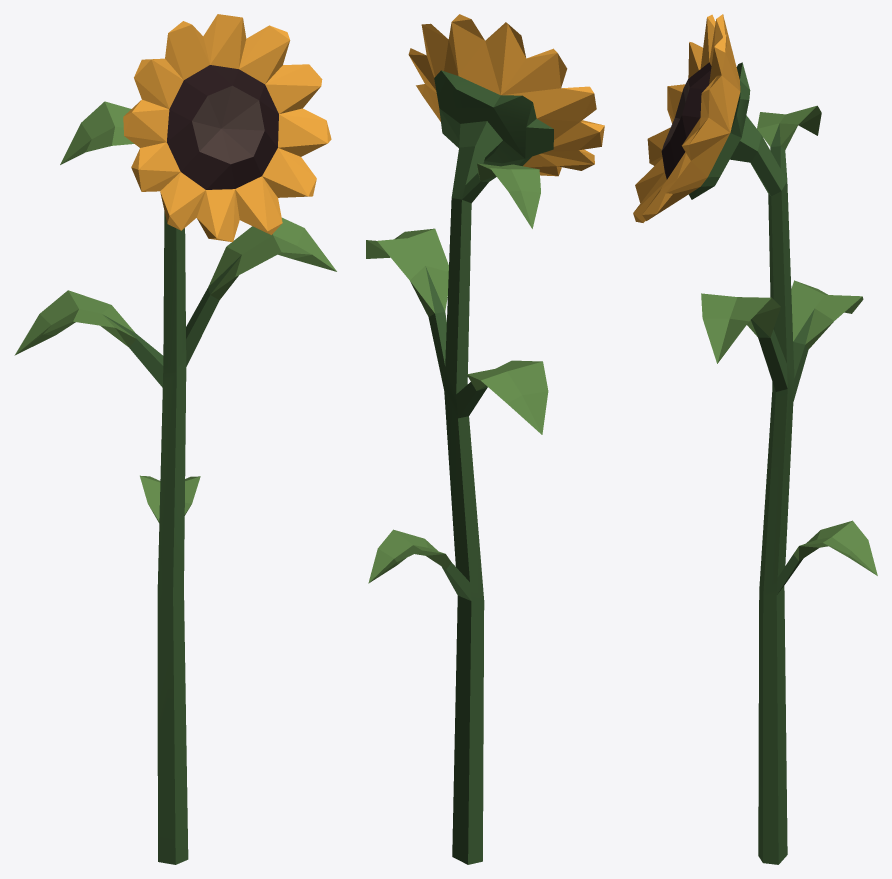
File: sunflower_plant.glb
3 views of the same model, side by side, from view 1: azimuth 30°, elevation 25°; view 2: azimuth 150°, elevation 25°; view 3: azimuth 270°, elevation 25° (orthographic). The views are drawn at different scales.
Parts seen in each view (by area): view 1: SM_Prop_Sunflower_01; view 2: SM_Prop_Sunflower_01; view 3: SM_Prop_Sunflower_01.
Part boxes in pixels (x1,y1,x2,y2): SM_Prop_Sunflower_01: (14,14,336,864); SM_Prop_Sunflower_01: (366,14,604,864); SM_Prop_Sunflower_01: (633,14,877,864).
Size of the model in its own units: 0.3981 by 1.29 by 0.3416.
Materials: 1 (1 with a texture image).
